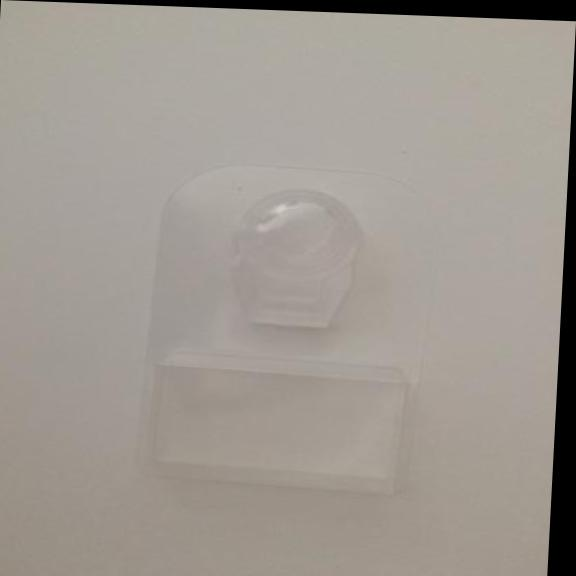Plastik: (125, 150, 439, 493)
